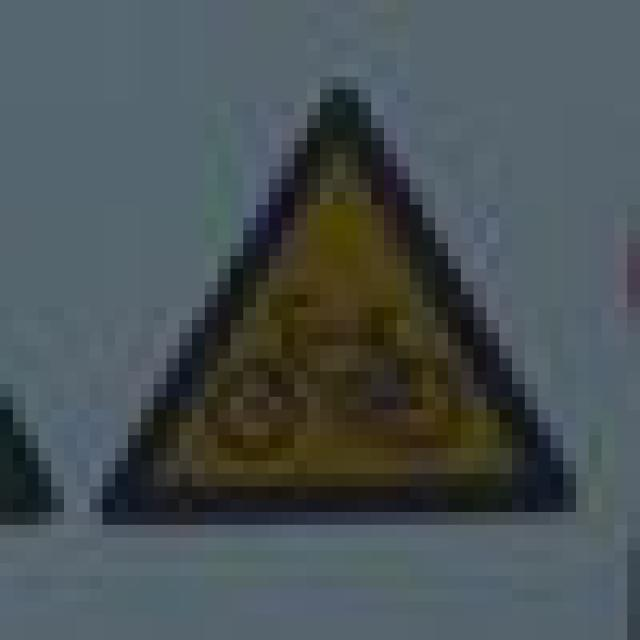cycle_crossing: (77, 64, 550, 499)
